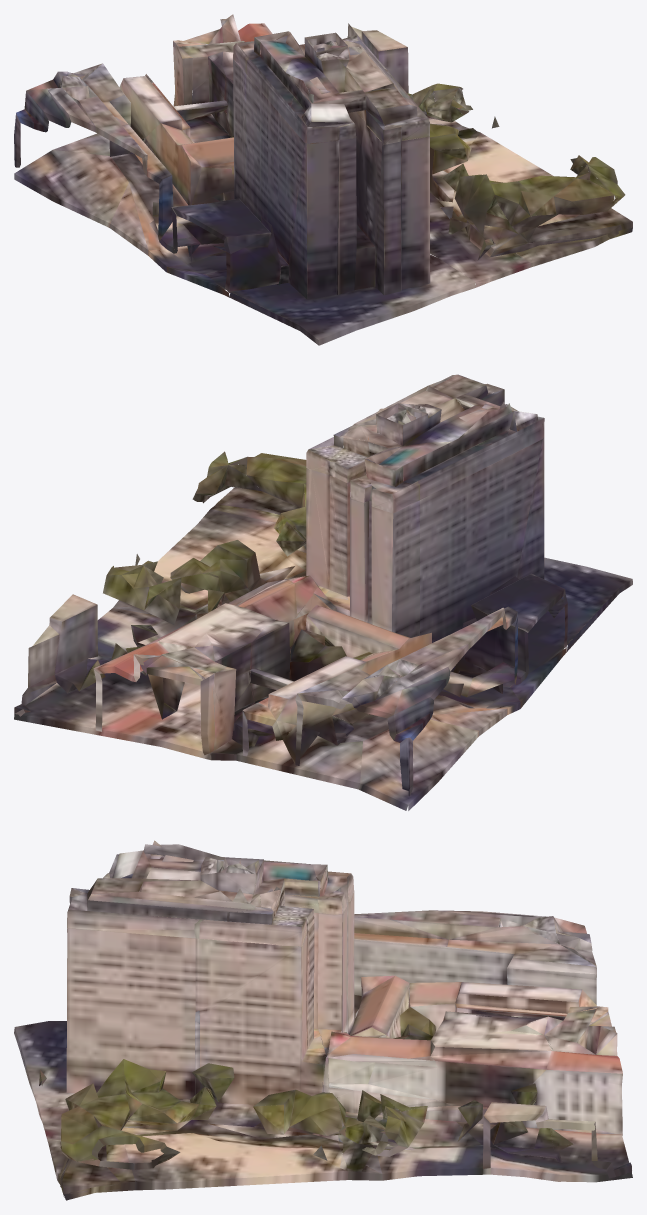
The picture shows the model from 3 angles, top to bottom: view 1: azimuth 30°, elevation 25°; view 2: azimuth 150°, elevation 25°; view 3: azimuth 270°, elevation 25°; orthographic projection. The views are drawn at different scales.
Parts seen in each view (by area): view 1: Mesh_0; view 2: Mesh_0; view 3: Mesh_0.
Part boxes in pixels (bbox=[...]): Mesh_0: bbox=[14, 14, 632, 345]; Mesh_0: bbox=[14, 374, 632, 810]; Mesh_0: bbox=[14, 840, 632, 1200].
Size of the model in its own units: 133 by 71.53 by 165.
Materials: 2 (2 with a texture image).
